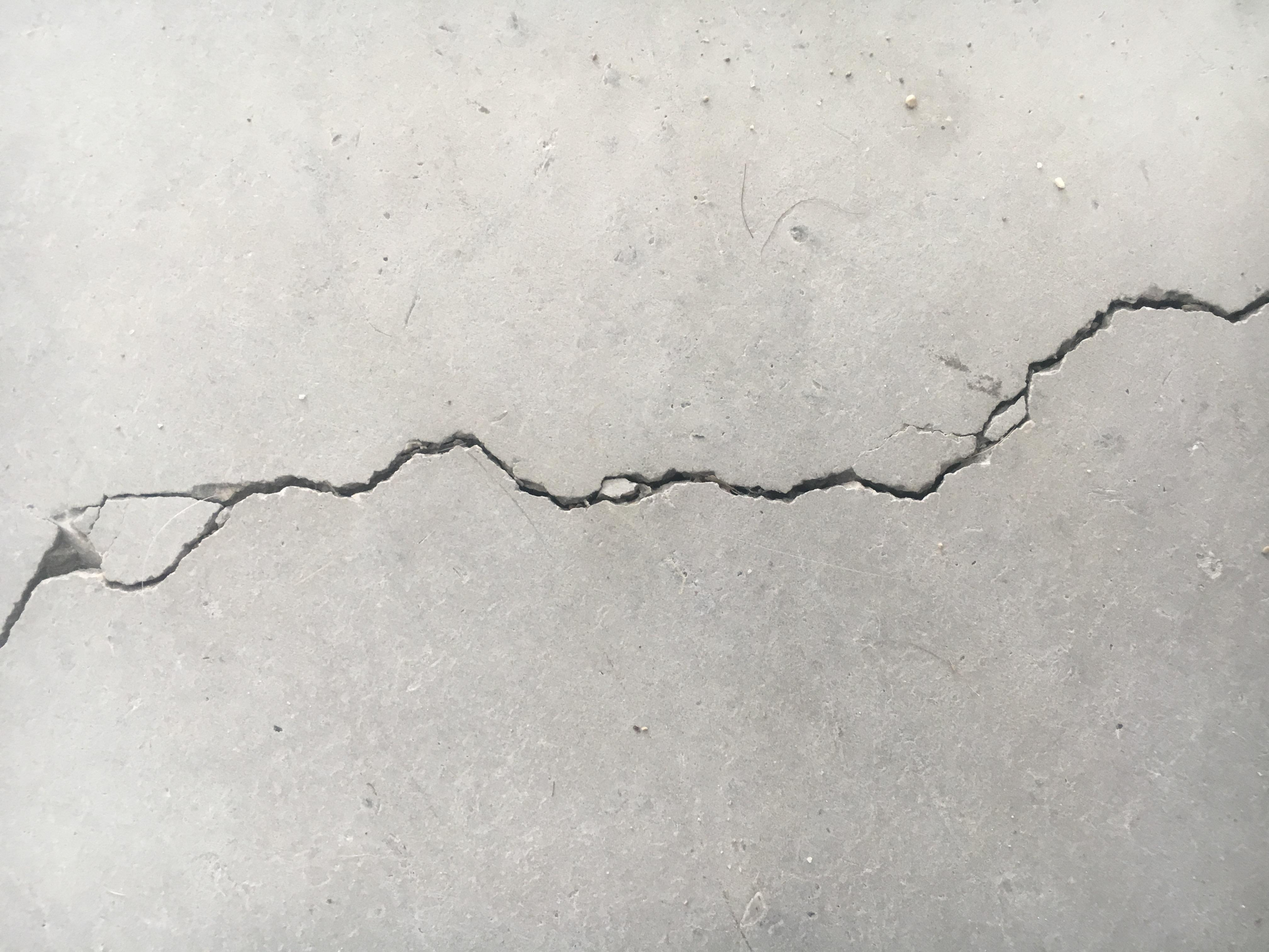Structural-Crack: (4, 281, 1266, 647)
